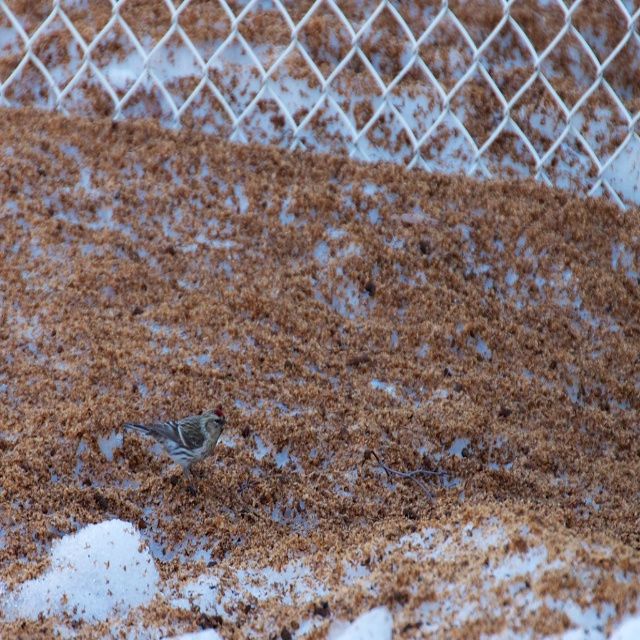Sparrow: (120, 407, 228, 481)
